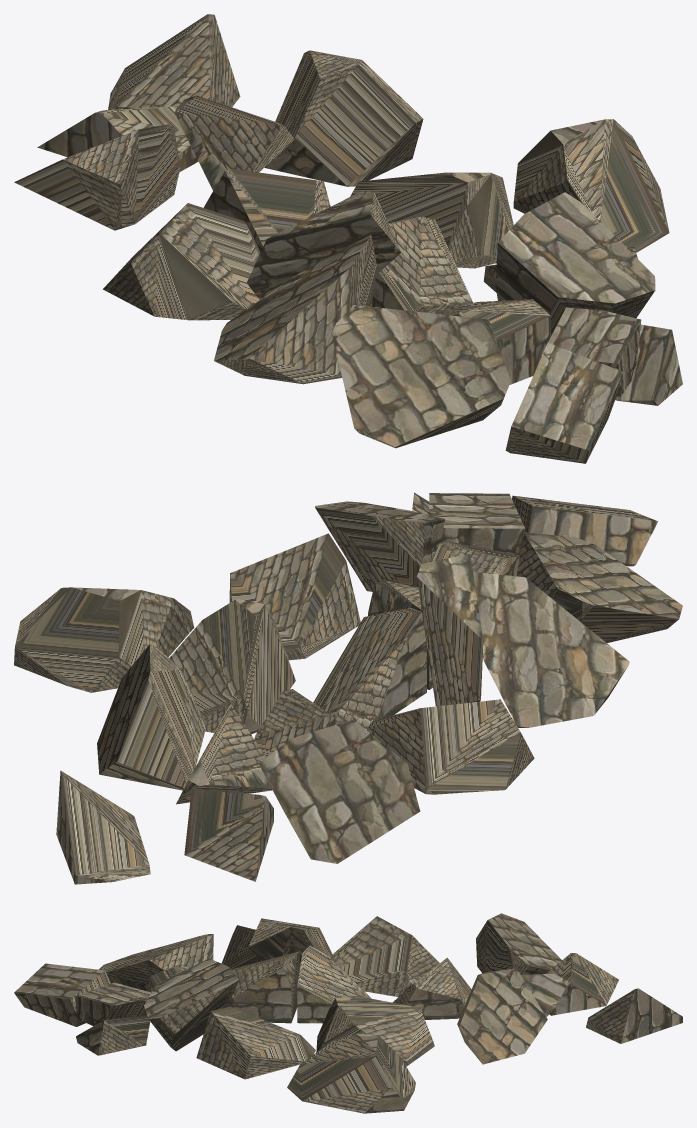
File: BreakWallSmall_000024.obj
The picture shows the model from 3 angles, top to bottom: view 1: azimuth 30°, elevation 25°; view 2: azimuth 150°, elevation 25°; view 3: azimuth 270°, elevation 25°; orthographic projection. The views are drawn at different scales.
Visible parts, largest first — view 1: Cube.002_cell.013_Cube.002_cell.012, Cube.002_cell.014_Cube.002_cell.013, Cube.002_cell.004_Cube.002_cell.003, Cube.002_cell.017_Cube.002_cell.016, Cube.002_cell.012_Cube.002_cell.011, Cube.002_cell.003_Cube.002_cell.002, Cube.002_cell.010_Cube.002_cell.009, Cube.002_cell.002_Cube.002_cell.001, Cube.002_cell.015_Cube.002_cell.014, Cube.002_cell.005_Cube.002_cell.004, Cube.002_cell.009_Cube.002_cell.008, Cube.002_cell.008_Cube.002_cell.007 (+6 smaller); view 2: Cube.002_cell.017_Cube.002_cell.016, Cube.002_cell.010_Cube.002_cell.009, Cube.002_cell.003_Cube.002_cell.002, Cube.002_cell.012_Cube.002_cell.011, Cube.002_cell.014_Cube.002_cell.013, Cube.002_cell.015_Cube.002_cell.014, Cube.002_cell.013_Cube.002_cell.012, Cube.002_cell.016_Cube.002_cell.015, Cube.002_cell.006_Cube.002_cell.005, Cube.002_cell.009_Cube.002_cell.008, Cube.002_cell.004_Cube.002_cell.003, Cube.002_cell.005_Cube.002_cell.004 (+7 smaller); view 3: Cube.002_cell.003_Cube.002_cell.002, Cube.002_cell.014_Cube.002_cell.013, Cube.002_cell.016_Cube.002_cell.015, Cube.002_cell.012_Cube.002_cell.011, Cube.002_cell.004_Cube.002_cell.003, Cube.002_cell.015_Cube.002_cell.014, Cube.002_cell.008_Cube.002_cell.007, Cube.002_cell.010_Cube.002_cell.009, Cube.002_cell.002_Cube.002_cell.001, Cube.002_cell.006_Cube.002_cell.005, Cube.002_cell.005_Cube.002_cell.004, Cube.002_cell.013_Cube.002_cell.012 (+8 smaller).
Boxes of the visible parts, x1,y1,x2,y2 form: Cube.002_cell.013_Cube.002_cell.012: (332, 305, 510, 448); Cube.002_cell.014_Cube.002_cell.013: (264, 50, 423, 186); Cube.002_cell.004_Cube.002_cell.003: (495, 192, 655, 335); Cube.002_cell.017_Cube.002_cell.016: (214, 235, 376, 384); Cube.002_cell.012_Cube.002_cell.011: (103, 203, 260, 320); Cube.002_cell.003_Cube.002_cell.002: (513, 119, 669, 252); Cube.002_cell.010_Cube.002_cell.009: (14, 124, 180, 230); Cube.002_cell.002_Cube.002_cell.001: (505, 342, 623, 463); Cube.002_cell.015_Cube.002_cell.014: (350, 172, 513, 268); Cube.002_cell.005_Cube.002_cell.004: (108, 14, 240, 109); Cube.002_cell.009_Cube.002_cell.008: (247, 191, 400, 299); Cube.002_cell.008_Cube.002_cell.007: (371, 216, 472, 313); Cube.002_cell.017_Cube.002_cell.016: (473, 572, 629, 727); Cube.002_cell.010_Cube.002_cell.009: (259, 719, 420, 863); Cube.002_cell.003_Cube.002_cell.002: (14, 587, 194, 692); Cube.002_cell.012_Cube.002_cell.011: (366, 699, 534, 794); Cube.002_cell.014_Cube.002_cell.013: (97, 644, 206, 790); Cube.002_cell.015_Cube.002_cell.014: (169, 599, 295, 734); Cube.002_cell.013_Cube.002_cell.012: (516, 532, 682, 642); Cube.002_cell.016_Cube.002_cell.015: (229, 533, 360, 660); Cube.002_cell.006_Cube.002_cell.005: (313, 607, 426, 728); Cube.002_cell.009_Cube.002_cell.008: (416, 553, 483, 706); Cube.002_cell.004_Cube.002_cell.003: (315, 501, 444, 591); Cube.002_cell.005_Cube.002_cell.004: (56, 770, 150, 884); Cube.002_cell.003_Cube.002_cell.002: (287, 1033, 415, 1113); Cube.002_cell.014_Cube.002_cell.013: (457, 968, 547, 1064); Cube.002_cell.016_Cube.002_cell.015: (196, 1006, 315, 1079); Cube.002_cell.012_Cube.002_cell.011: (332, 916, 439, 996); Cube.002_cell.004_Cube.002_cell.003: (144, 958, 239, 1051); Cube.002_cell.015_Cube.002_cell.014: (316, 996, 434, 1066); Cube.002_cell.008_Cube.002_cell.007: (229, 951, 299, 1023); Cube.002_cell.010_Cube.002_cell.009: (476, 913, 561, 974); Cube.002_cell.002_Cube.002_cell.001: (14, 963, 110, 1026); Cube.002_cell.006_Cube.002_cell.005: (297, 945, 371, 1023); Cube.002_cell.005_Cube.002_cell.004: (586, 988, 682, 1043); Cube.002_cell.013_Cube.002_cell.012: (99, 934, 213, 991).
Size of the model in its own units: 29.66 by 6.65 by 51.04.
2 materials, 2 textured.
